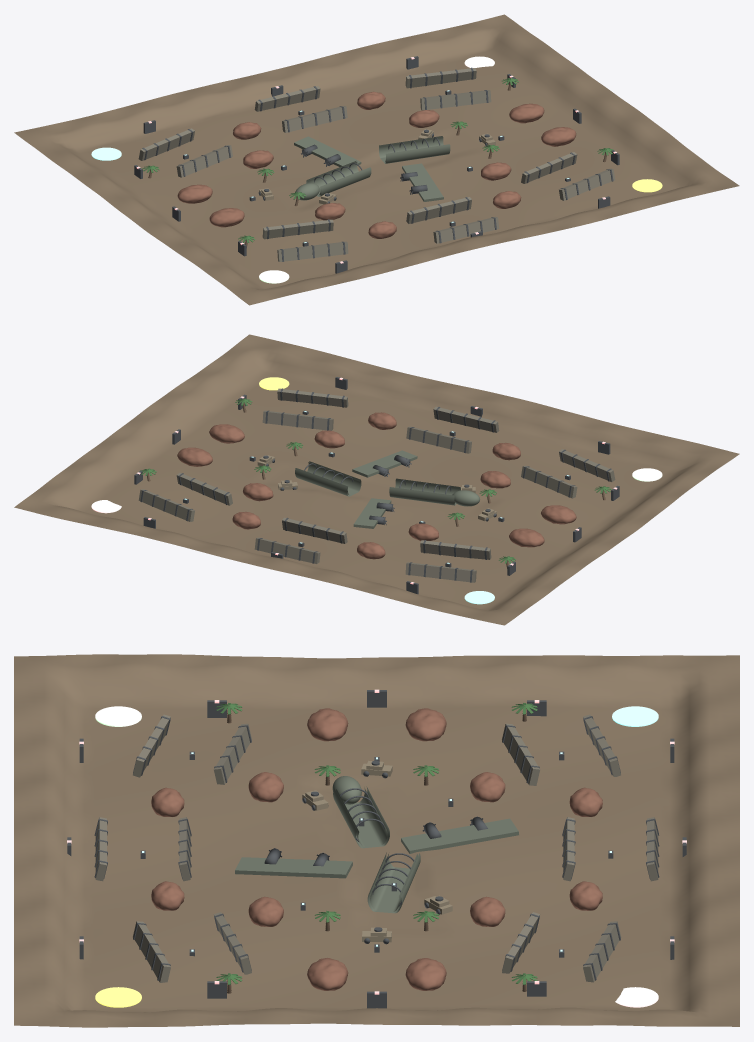
File: Map3_Col_Kargo_Ucagi_Enkazi_5v5v5v5.glb
3 views of the same model, one above another, from view 1: azimuth 30°, elevation 25°; view 2: azimuth 150°, elevation 25°; view 3: azimuth 270°, elevation 25° (orthographic). The views are drawn at different scales.
Visible parts, largest first — view 1: Desert_Sculpted_Terrain, C130_Rear_Fuselage, C130_Forward_Fuselage, Quonset_SW_ArchWall_-1, Quonset_NE_ArchWall_-1, Quonset_NE_ArchWall_1, Quonset_North_ArchWall_-1, Quonset_SW_ArchWall_1, Quonset_South_ArchWall_-1, Quonset_South_ArchWall_1, C130_AirfoilWing_1, Quonset_North_ArchWall_1 (+9 smaller); view 2: Desert_Sculpted_Terrain, C130_Forward_Fuselage, C130_Rear_Fuselage, Quonset_NW_ArchWall_1, Quonset_SE_ArchWall_1, Quonset_NW_ArchWall_-1, Quonset_South_ArchWall_1, Quonset_North_ArchWall_1, Quonset_SE_ArchWall_-1, Quonset_North_ArchWall_-1, Quonset_South_ArchWall_-1, Quonset_NE_ArchWall_1 (+9 smaller); view 3: Desert_Sculpted_Terrain, C130_AirfoilWing_0, C130_AirfoilWing_1, C130_Forward_Fuselage, C130_Rear_Fuselage, CanyonMesa_06, CanyonMesa_07, CanyonMesa_04, CanyonMesa_05, Quonset_NW_ArchWall_-1, Quonset_NE_ArchWall_1, Quonset_SE_ArchWall_-1 (+21 smaller).
Part boxes in pixels (<box>): Desert_Sculpted_Terrain: <box>14,14,739,305</box>; C130_Rear_Fuselage: <box>379,136,450,163</box>; C130_Forward_Fuselage: <box>306,161,371,196</box>; Quonset_SW_ArchWall_-1: <box>277,241,348,261</box>; Quonset_NE_ArchWall_-1: <box>420,90,491,110</box>; Quonset_NE_ArchWall_1: <box>405,68,476,88</box>; Quonset_North_ArchWall_-1: <box>282,106,347,132</box>; Quonset_SW_ArchWall_1: <box>262,219,333,239</box>; Quonset_South_ArchWall_-1: <box>433,216,499,243</box>; Quonset_South_ArchWall_1: <box>406,197,471,223</box>; C130_AirfoilWing_1: <box>402,163,443,201</box>; Quonset_North_ArchWall_1: <box>254,86,320,111</box>; Desert_Sculpted_Terrain: <box>14,334,739,625</box>; C130_Forward_Fuselage: <box>389,478,460,505</box>; C130_Rear_Fuselage: <box>295,461,361,496</box>; Quonset_NW_ArchWall_1: <box>405,562,476,582</box>; Quonset_SE_ArchWall_1: <box>262,410,333,430</box>; Quonset_NW_ArchWall_-1: <box>420,540,491,559</box>; Quonset_South_ArchWall_1: <box>406,426,471,453</box>; Quonset_North_ArchWall_1: <box>254,537,320,563</box>; Quonset_SE_ArchWall_-1: <box>277,388,348,407</box>; Quonset_North_ArchWall_-1: <box>282,517,347,543</box>; Quonset_South_ArchWall_-1: <box>433,406,499,432</box>; Quonset_NE_ArchWall_1: <box>138,489,194,521</box>; Desert_Sculpted_Terrain: <box>14,654,739,1027</box>; C130_AirfoilWing_0: <box>401,818,518,853</box>; C130_AirfoilWing_1: <box>235,857,352,878</box>; C130_Forward_Fuselage: <box>333,786,389,848</box>; C130_Rear_Fuselage: <box>367,852,420,913</box>; CanyonMesa_06: <box>307,708,348,741</box>; CanyonMesa_07: <box>307,958,348,990</box>; CanyonMesa_04: <box>405,708,446,741</box>; CanyonMesa_05: <box>405,958,446,990</box>; Quonset_NW_ArchWall_-1: <box>502,723,540,785</box>; Quonset_NE_ArchWall_1: <box>583,921,621,982</box>; Quonset_SE_ArchWall_-1: <box>133,921,170,982</box>.
Size of the model in its own units: 142 by 4.57 by 118.
